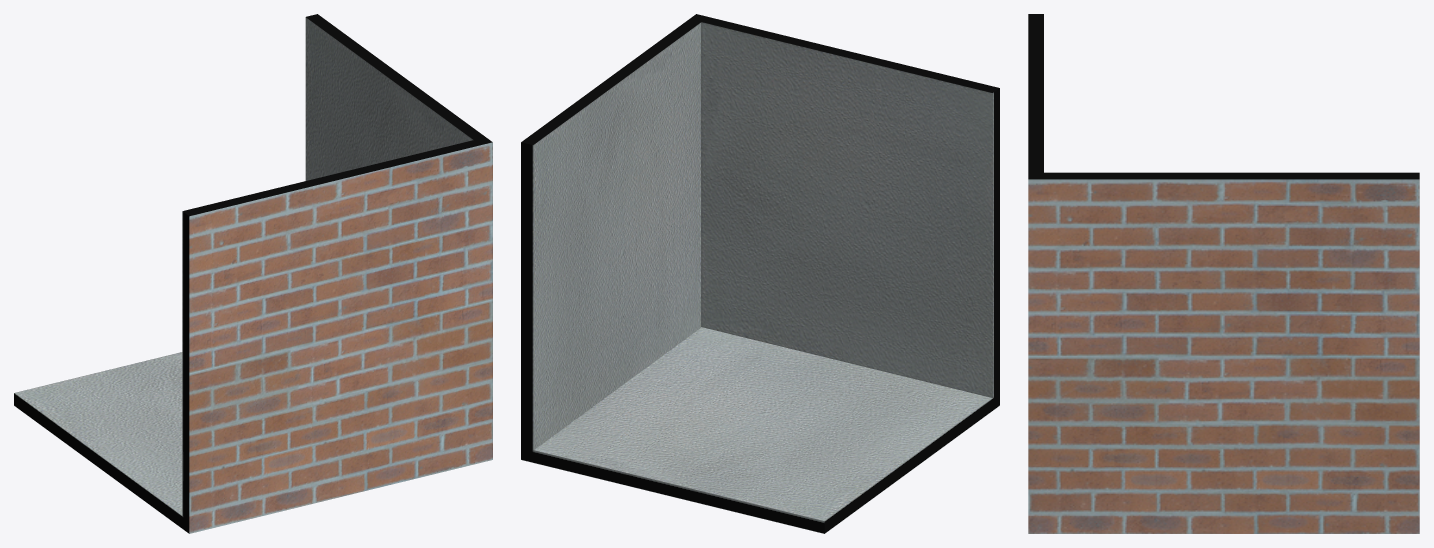
The model's file is groundfloorcorner.fbx.
3 renders of one model, left to right at view 1: azimuth 30°, elevation 25°; view 2: azimuth 150°, elevation 25°; view 3: azimuth 270°, elevation 25°, orthographic. The views are drawn at different scales.
Parts seen in each view (by area): view 1: groundfloorcorner; view 2: groundfloorcorner; view 3: groundfloorcorner.
Boxes of the visible parts, x1,y1,x2,y2 form: groundfloorcorner: (14,14,492,533); groundfloorcorner: (521,14,999,533); groundfloorcorner: (1028,14,1419,533).
Size of the model in its own units: 2.5 by 2.5 by 2.5.
1 material, 1 textured.
